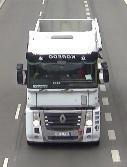truck: (25, 18, 101, 143)
